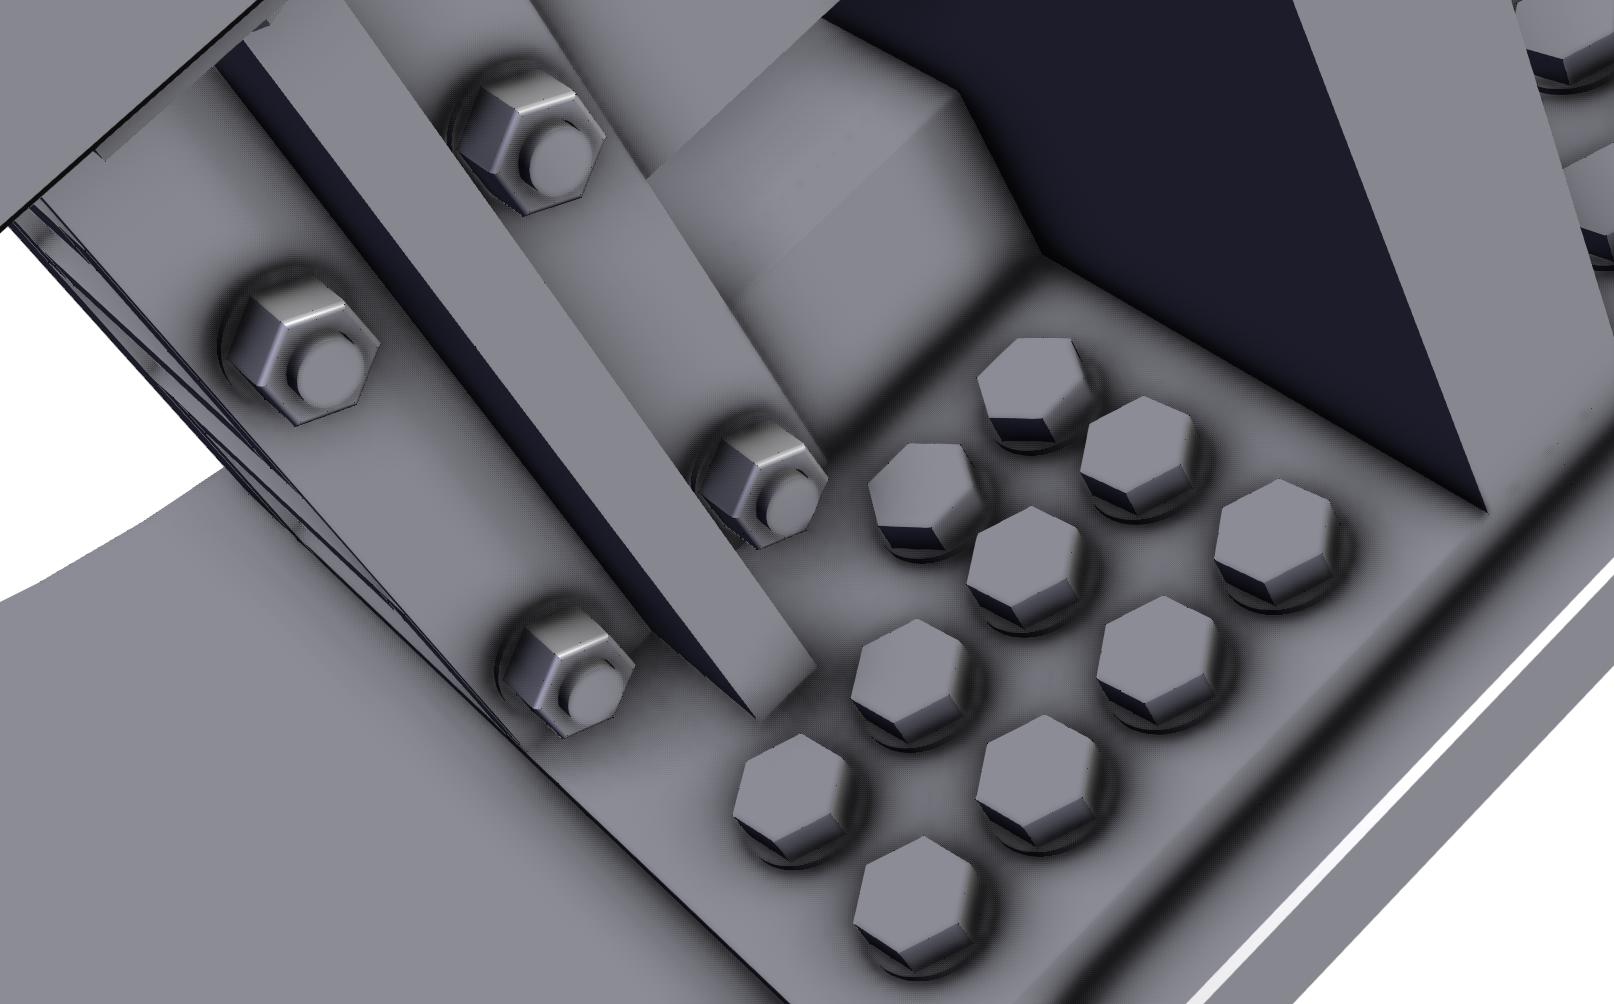bolt_a: (968, 713, 1104, 850), (853, 835, 980, 970), (1091, 592, 1219, 726), (1210, 477, 1340, 605), (730, 731, 854, 861), (849, 617, 971, 743), (963, 504, 1089, 626), (1078, 391, 1200, 514), (976, 333, 1097, 446), (866, 440, 986, 553)
bolt_b: (227, 272, 384, 429), (457, 71, 604, 217), (499, 601, 638, 740), (697, 421, 831, 551)
